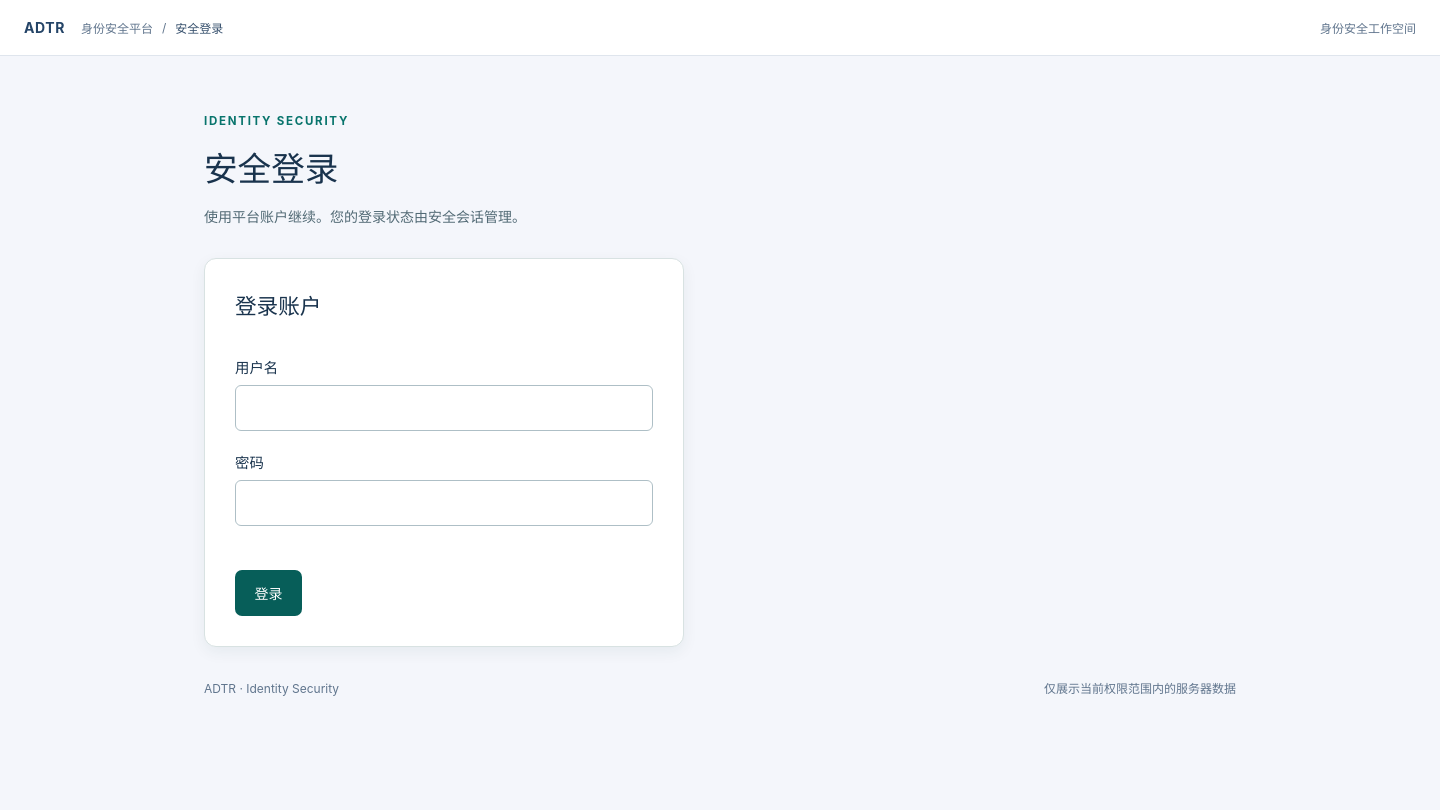
Test: authentication › prompts for MFA only after server challenge and retains challenge on invalid code
The width and height of the screenshot is (1440, 810).
Check: the heading "登录账户" is shown, box [235,293,321,319]
Type "admin" into the field labelled "用户名" at (444, 408), box [235,385,653,431]
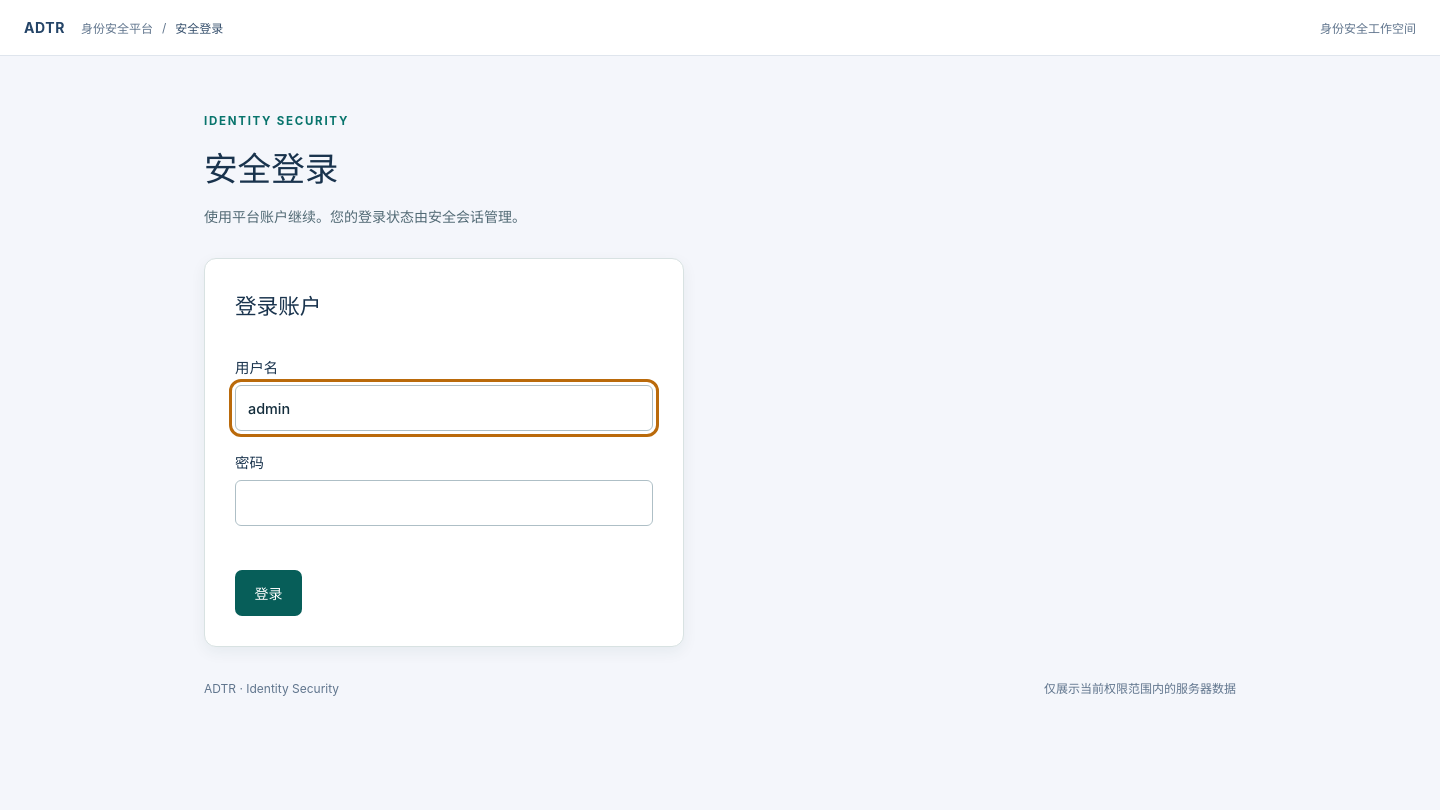
Type "sample-password" into the password field labelled "密码" at (444, 503), box [235,480,653,526]
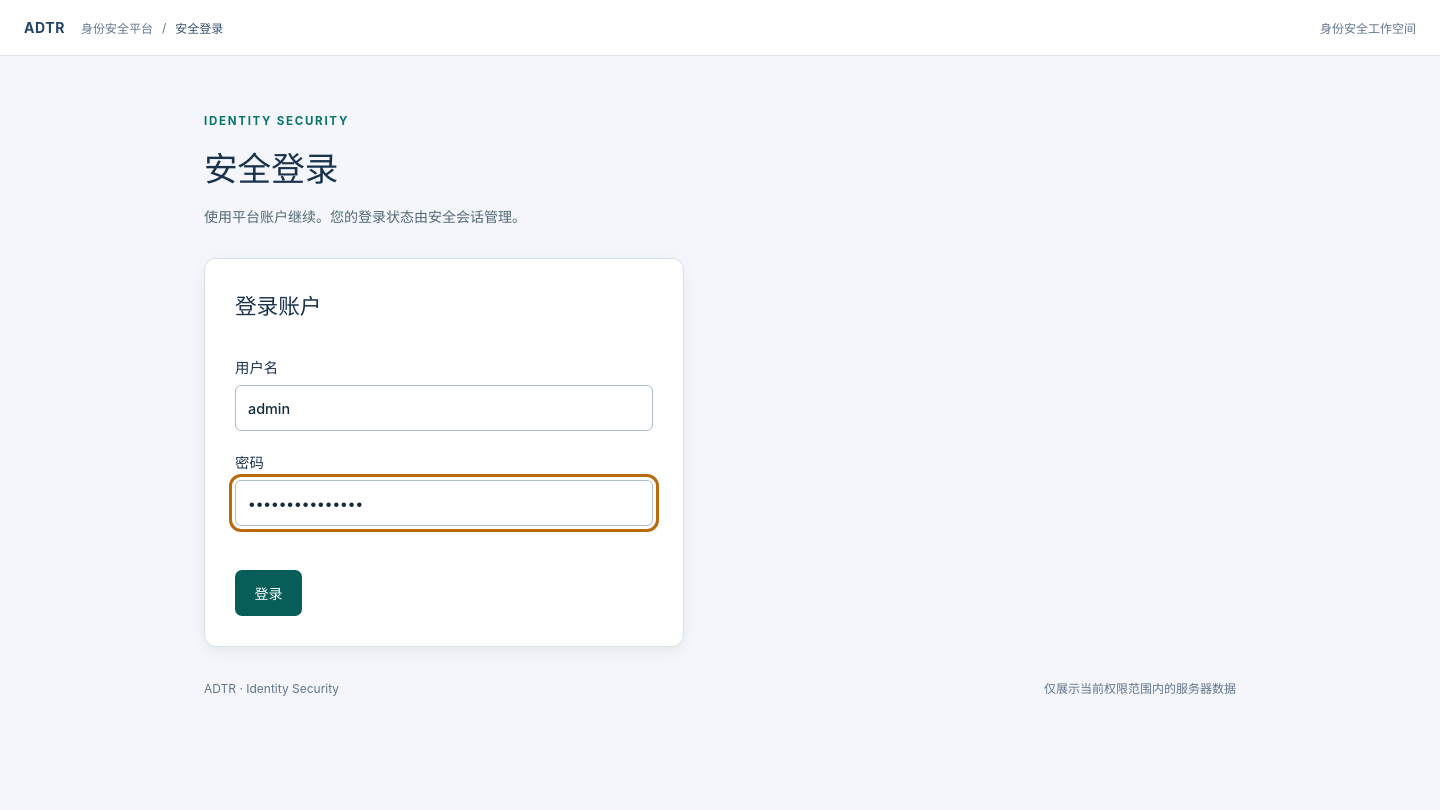
Click the button "登录" at (268, 593), box [235,570,302,616]
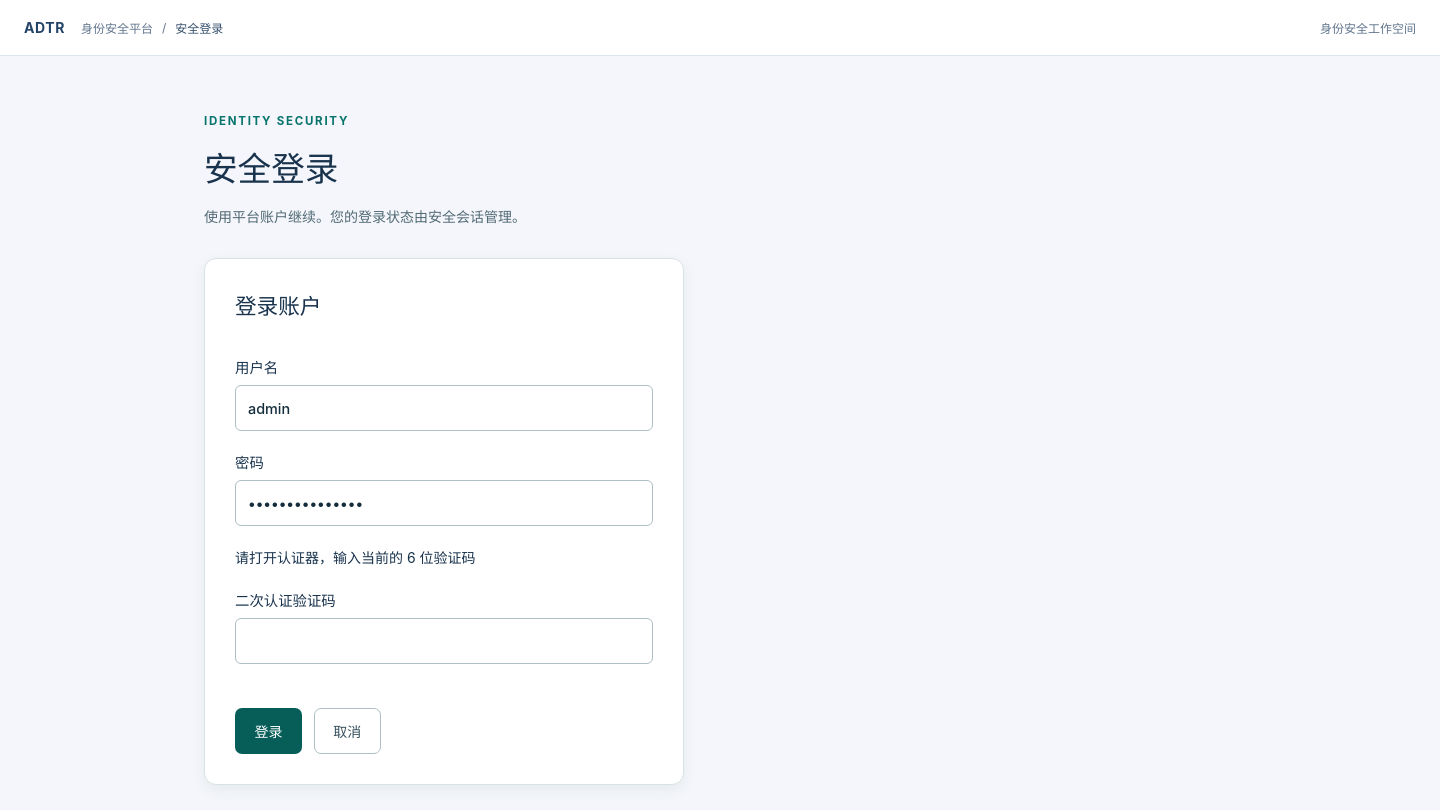
Check: the field labelled "二次认证验证码" is shown
Type "123456" into the field labelled "二次认证验证码" at (444, 641), box [235,618,653,664]
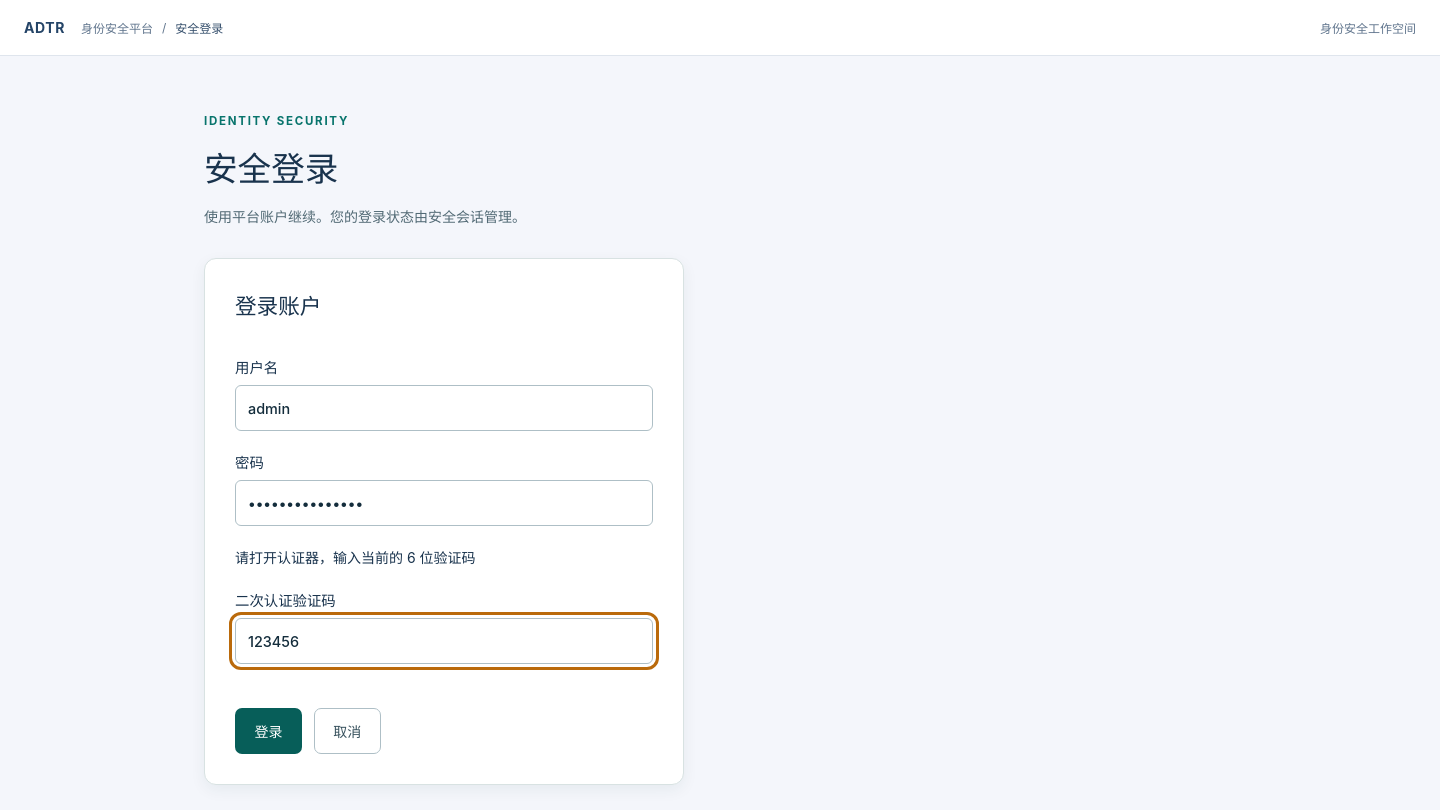
Click the button "登录" at (268, 731), box [235,708,302,754]
(page scrolled)
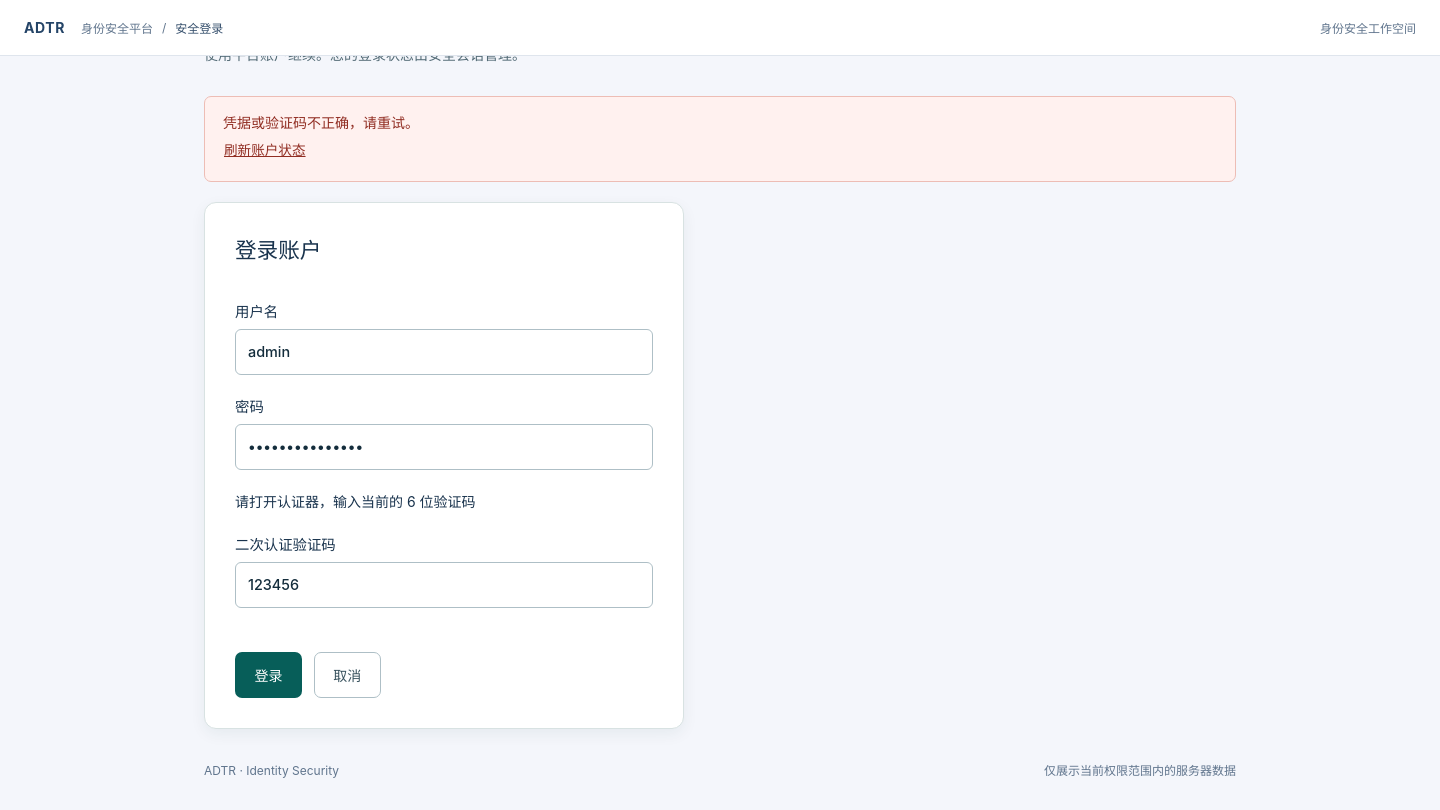
Check: the message "凭据或验证码不正确，请重试。 刷新账户状态" is shown, box [204,96,1236,182]
Click the button "登录" at (268, 675), box [235,652,302,698]
(page scrolled)
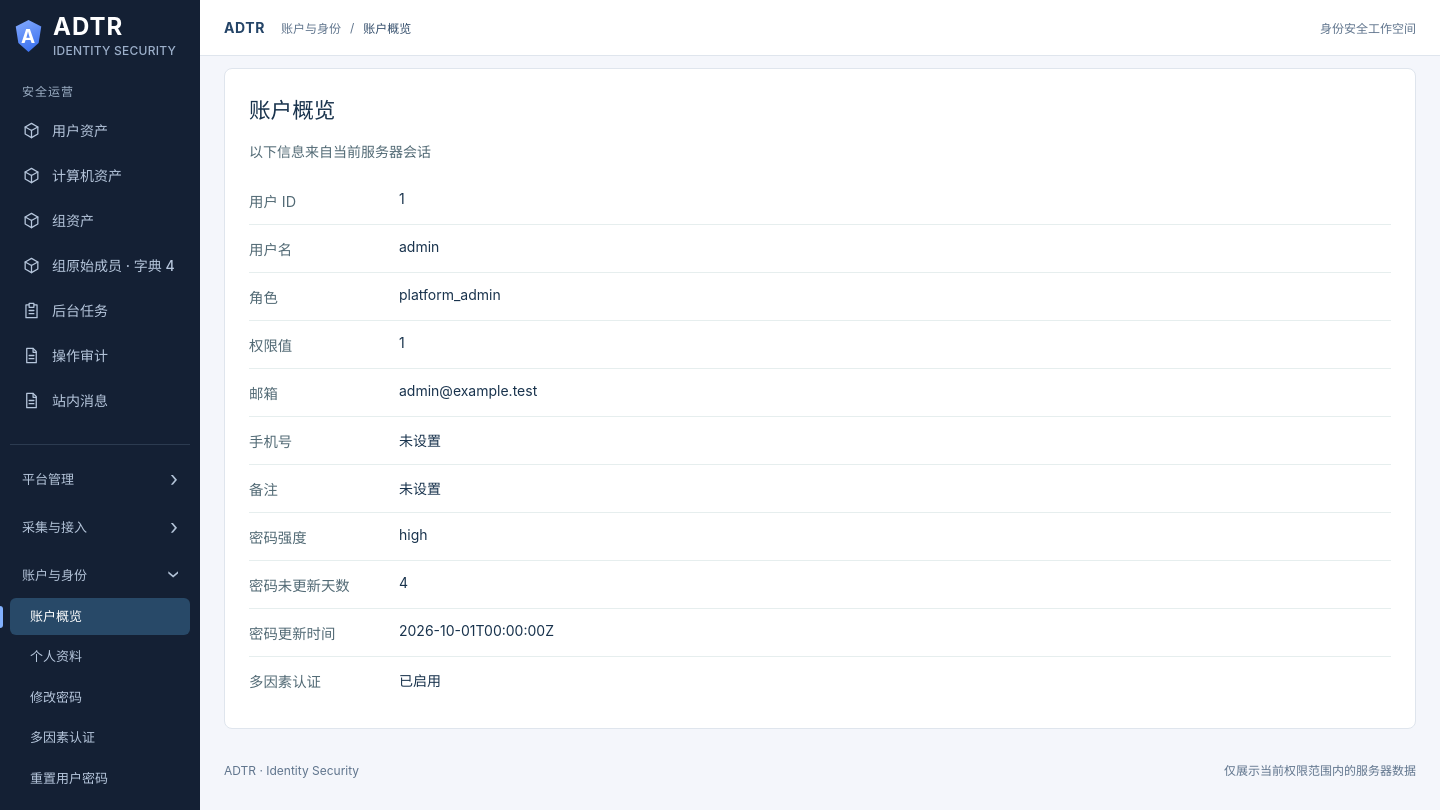
Check: the heading "账户概览" is shown, box [249,97,335,123]
